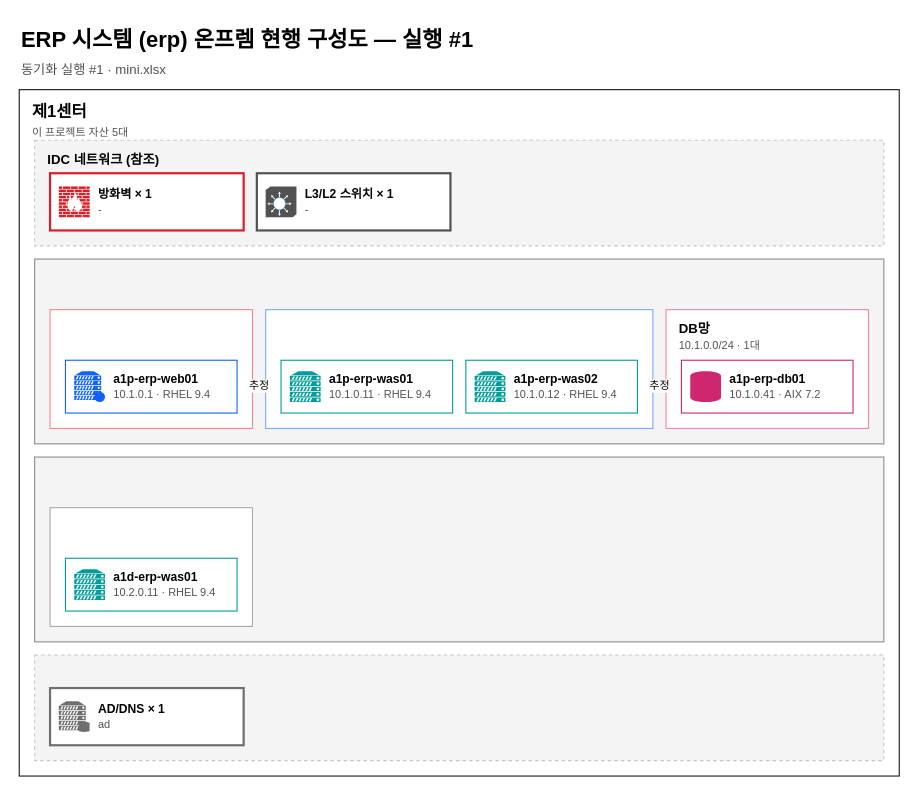
This 919x795 diagram has some shape labels left out. The shapes that lost their labels are listed below. From the top down, each one's box as (x1, y1, x2, y2) in pixels, then its label:
(49, 309, 252, 428): DMZ 10.1.0.0/24 · 1대
(34, 258, 884, 444): 운영 4대
(265, 309, 653, 428): 업무망 10.1.0.0/24 · 2대
(49, 507, 252, 626): 개발망 10.2.0.0/24 · 1대
(34, 456, 884, 642): 개발 1대
(34, 654, 884, 761): 공통 서비스 (참조)
